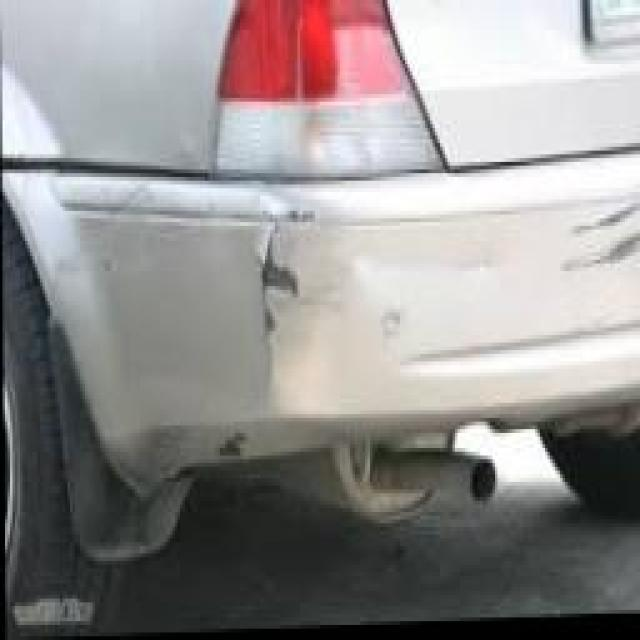Bumper: (72, 173, 397, 478), (482, 173, 640, 386)
Fender: (2, 30, 91, 169)
